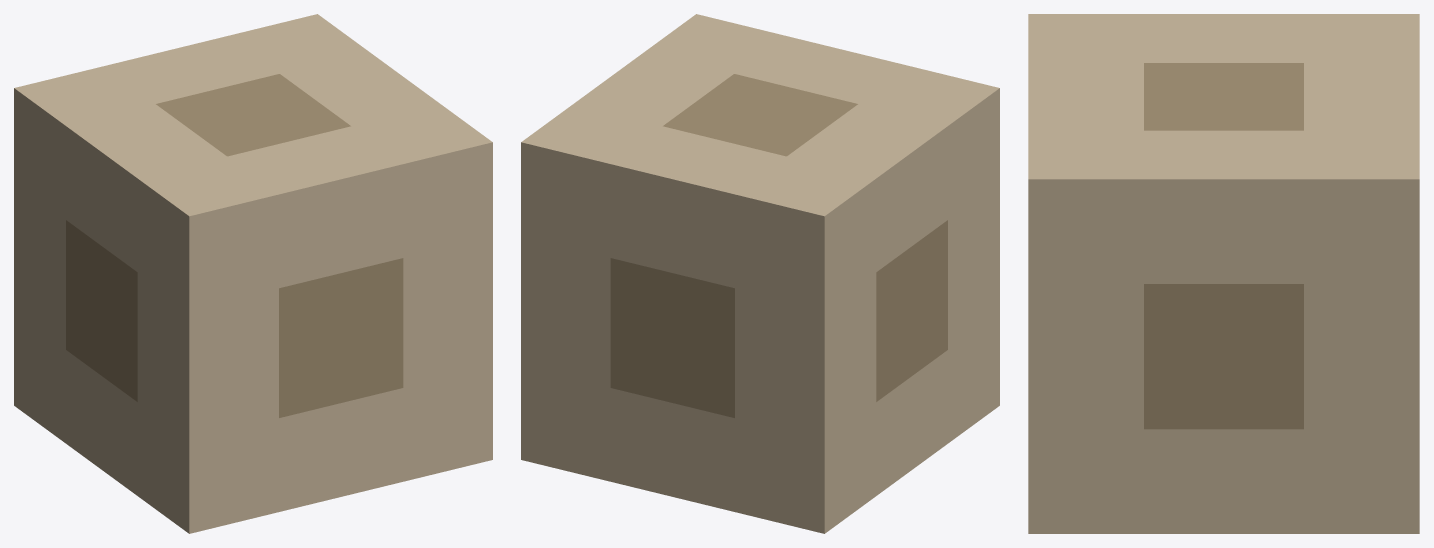
The model's file is LightSandStoneWallLargeRectangleInlayDecoration1.fbx.
The picture shows the model from 3 angles, left to right: view 1: azimuth 30°, elevation 25°; view 2: azimuth 150°, elevation 25°; view 3: azimuth 270°, elevation 25°; orthographic projection. The views are drawn at different scales.
Visible parts, largest first — view 1: LightSandStoneWallLargeRectangleInlayDecoration1; view 2: LightSandStoneWallLargeRectangleInlayDecoration1; view 3: LightSandStoneWallLargeRectangleInlayDecoration1.
Part boxes in pixels (x1,y1,x2,y2): LightSandStoneWallLargeRectangleInlayDecoration1: (14,14,492,533); LightSandStoneWallLargeRectangleInlayDecoration1: (521,14,999,533); LightSandStoneWallLargeRectangleInlayDecoration1: (1028,14,1419,533).
Bounding box in the file's own units: 100 × 100 × 100.
